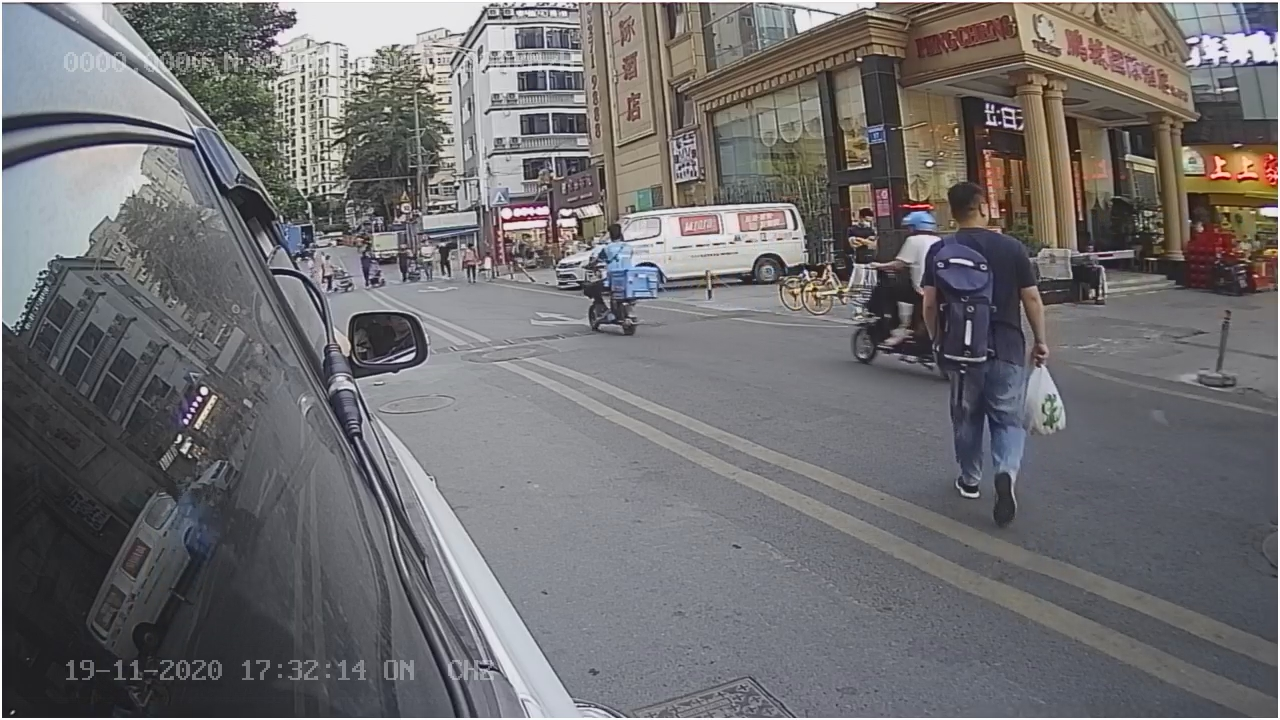person: (918, 173, 1054, 514)
